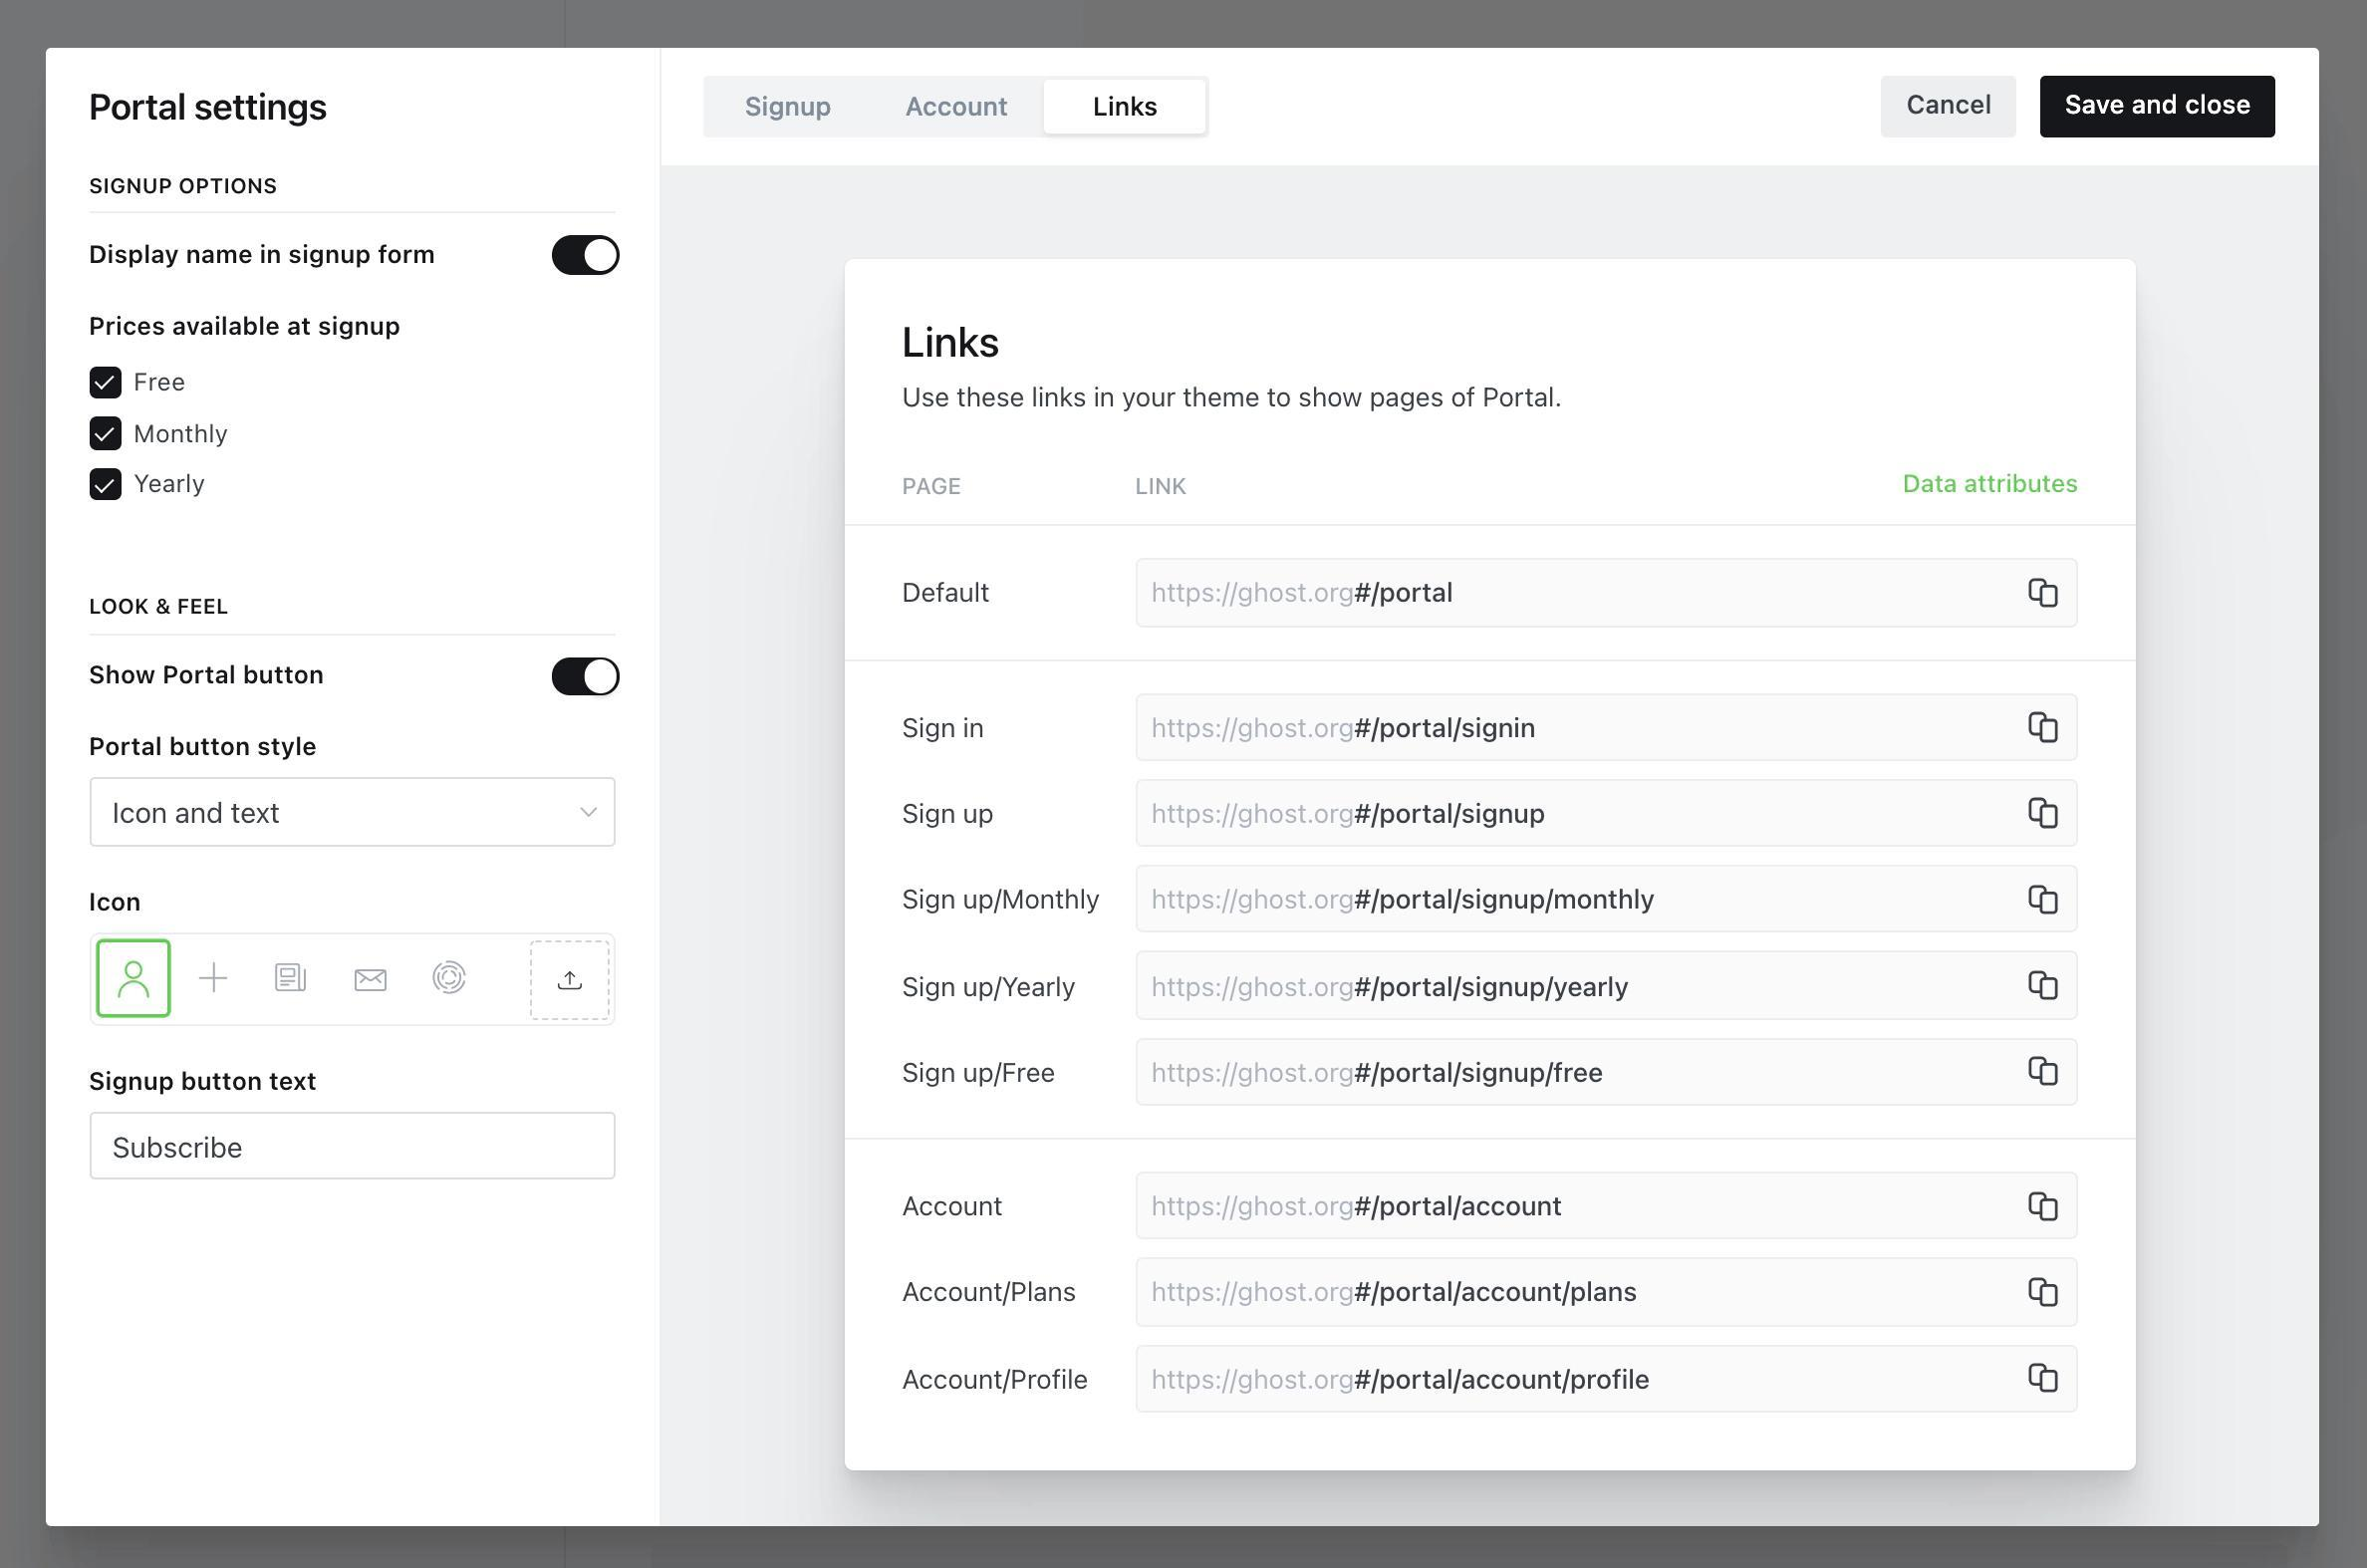button: (2040, 75, 2278, 140), (1046, 81, 1209, 138), (1882, 73, 2019, 138)
checkbox: (91, 416, 124, 451), (89, 469, 124, 502), (91, 367, 124, 401)
dropdown: (87, 773, 619, 847)
icon: (532, 940, 611, 1017), (96, 940, 171, 1017), (350, 959, 395, 1003), (194, 959, 241, 1001), (269, 959, 313, 1001), (432, 954, 469, 1003)
input: (86, 1109, 623, 1181)
label: (896, 383, 1566, 411), (86, 313, 402, 343), (89, 240, 441, 266), (87, 91, 332, 128), (89, 1066, 322, 1095), (899, 1360, 1092, 1393), (901, 887, 1104, 919), (899, 973, 1081, 1008), (89, 661, 327, 688), (87, 733, 318, 759), (896, 1277, 1081, 1305), (903, 1057, 1055, 1088), (899, 322, 1004, 362), (89, 177, 282, 198), (87, 593, 231, 616), (738, 93, 836, 124), (901, 577, 994, 611), (906, 94, 1015, 121), (901, 801, 994, 829), (899, 712, 985, 742), (135, 422, 231, 448), (901, 1195, 1006, 1218), (133, 471, 206, 497), (896, 476, 969, 500), (1130, 472, 1188, 499), (133, 369, 187, 394), (89, 887, 142, 912)
switch: (549, 658, 623, 696), (553, 236, 621, 275)
